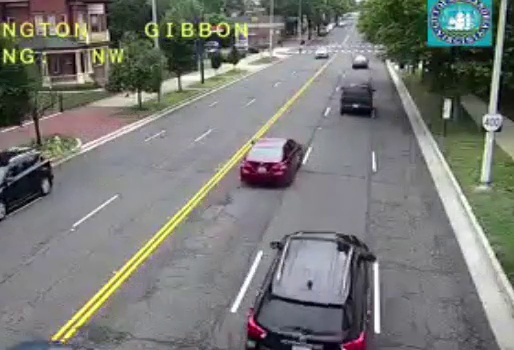car: (247, 231, 370, 350), (241, 138, 303, 186), (341, 87, 372, 114)
